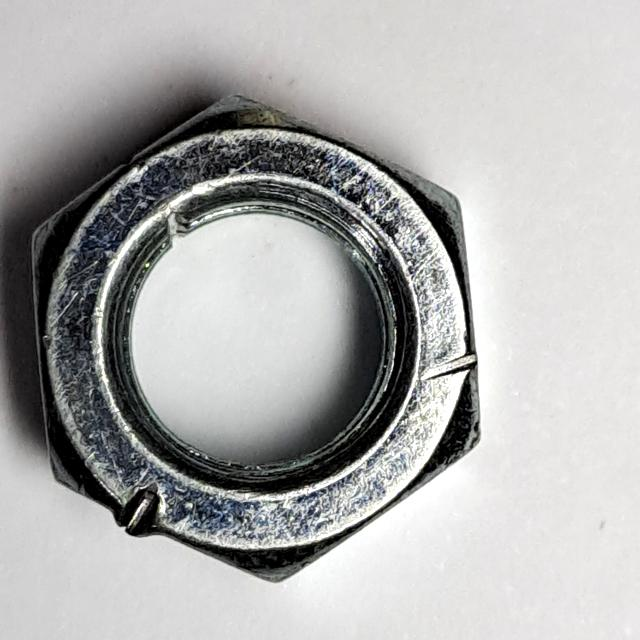Scratches: (23, 81, 494, 598)
